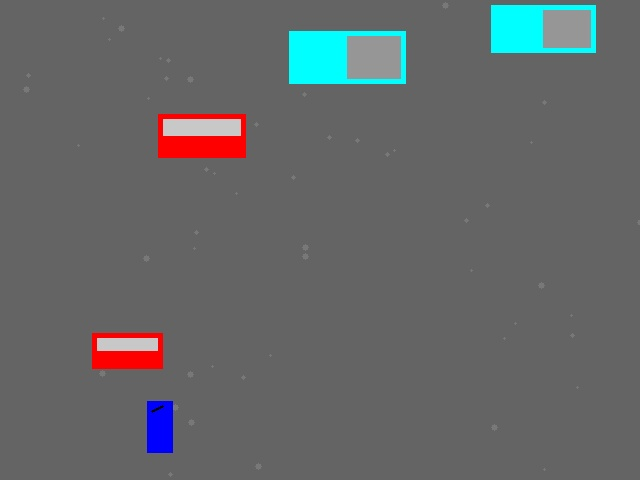car: (158, 114, 245, 157), (92, 333, 162, 368)
motorcycle: (147, 401, 172, 452)
truck: (289, 31, 405, 83), (491, 5, 595, 52)
